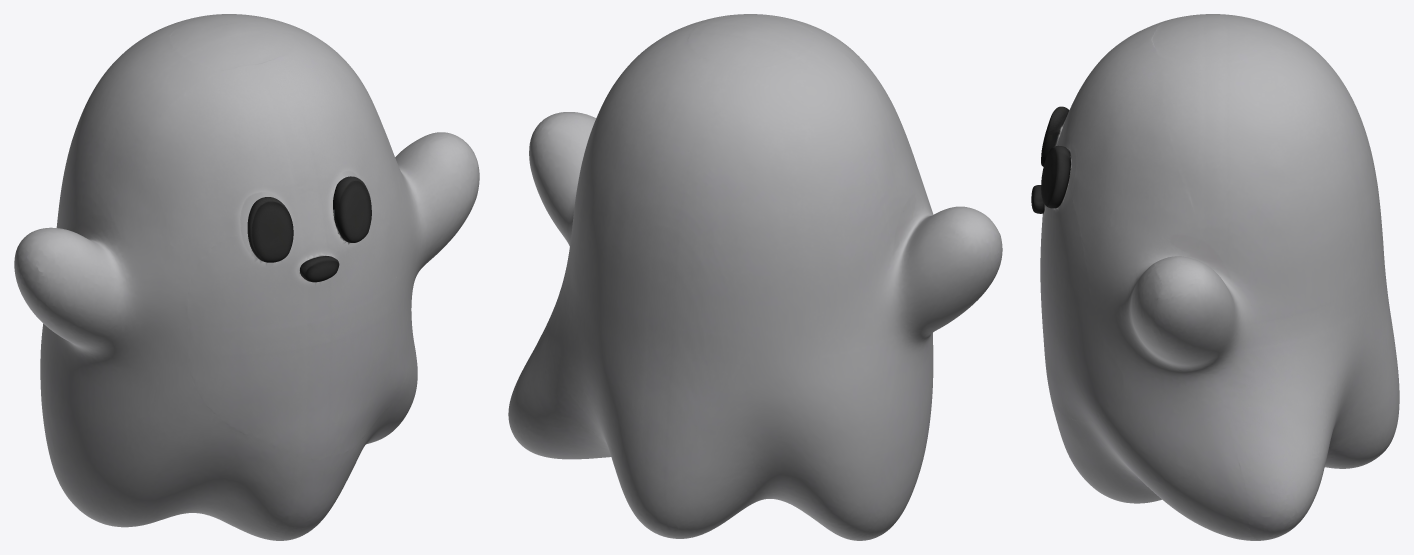
The model's file is tripo_convert_6646a707-2612-480a-9a67-3a30d67ef770.fbx.
3 views of the same model, side by side, from view 1: azimuth 30°, elevation 25°; view 2: azimuth 150°, elevation 25°; view 3: azimuth 270°, elevation 25° (orthographic). The views are drawn at different scales.
Visible parts, largest first — view 1: tripo_node_6646a707; view 2: tripo_node_6646a707; view 3: tripo_node_6646a707.
Boxes of the visible parts, bbox=[...] form: tripo_node_6646a707: bbox=[14, 14, 479, 540]; tripo_node_6646a707: bbox=[508, 14, 1002, 540]; tripo_node_6646a707: bbox=[1031, 14, 1399, 540].
Bounding box in the file's own units: 0.9771 × 0.9796 × 0.7039.
Materials: 1 (1 with a texture image).
